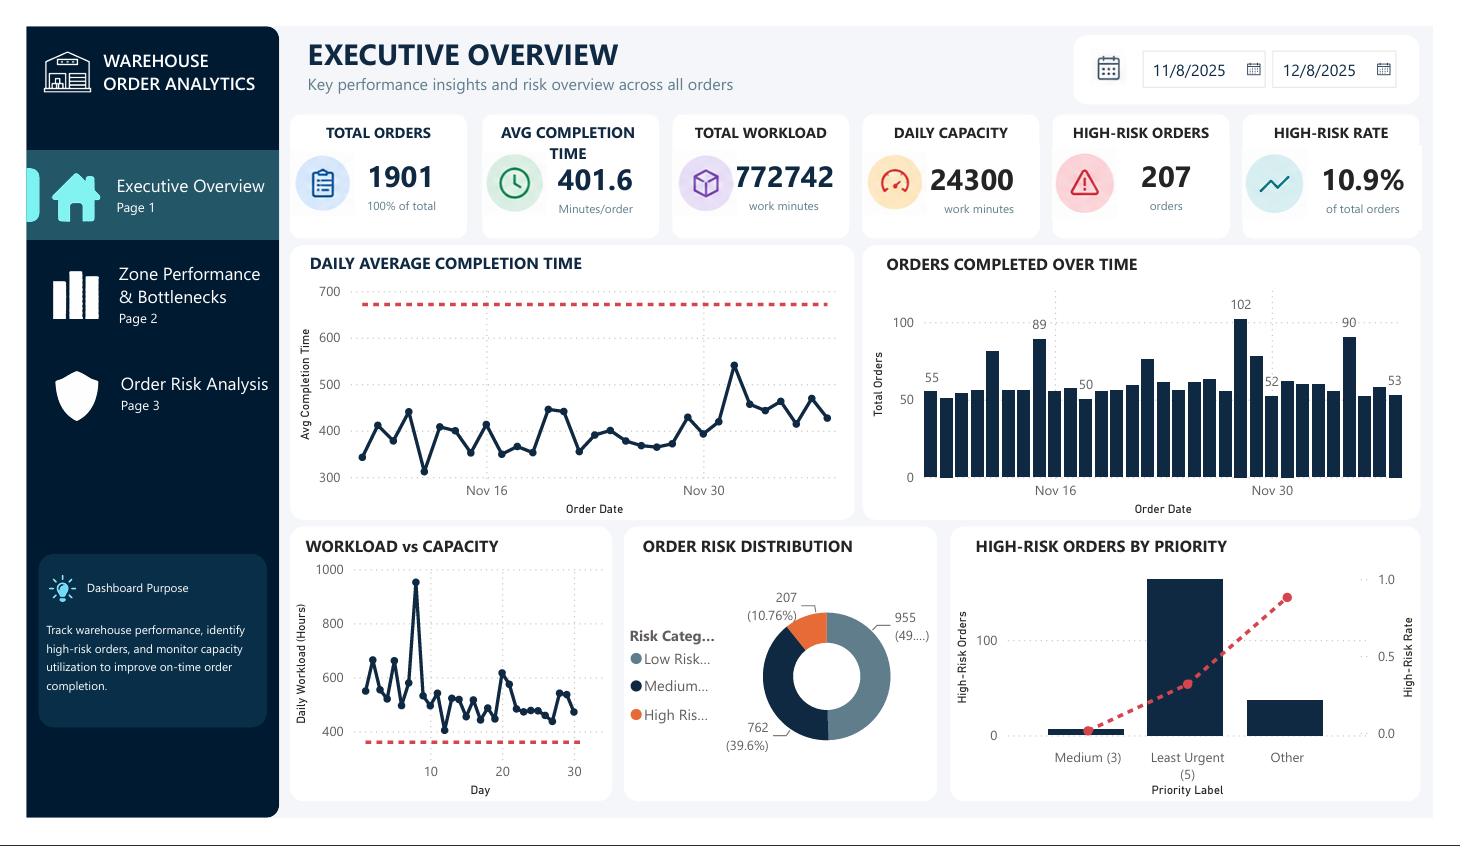

What the dashboard file says about the page in this screenshot:
{"tool":"powerbi","page":{"name":"Executive","canvas":[1280,720],"ordinal":0},"visuals":[{"type":"shape","box":[0,0,230,720],"z":0},{"type":"shape","box":[953.1,7.7,315.4,63.1],"z":0,"group":"g13"},{"type":"textbox","box":[65,15,158.8,55],"z":0,"group":"g6"},{"type":"shape","box":[240,80,161.2,112.5],"z":0,"group":"g7"},{"type":"shape","box":[414.4,80,161.2,112.5],"z":0,"group":"g8"},{"type":"shape","box":[587.6,80,161.2,112.5],"z":0,"group":"g9"},{"type":"shape","box":[760.8,80,161.2,112.5],"z":0,"group":"g10"},{"type":"shape","box":[934,80,161.2,112.5],"z":0,"group":"g11"},{"type":"shape","box":[1107.1,80,161.2,112.5],"z":0,"group":"g12"},{"type":"shape","box":[0,113,230,81],"z":0,"group":"g4"},{"type":"group","id":"g1","title":"Group 3","box":[0,296,230,81],"z":0,"group":"g3"},{"type":"shape","box":[11.5,480,207.5,157.5],"z":0,"group":"g5"},{"type":"textbox","box":[251.2,1.2,436.2,68.8],"z":1000},{"type":"image","box":[10,6.2,55,71.2],"z":1000,"group":"g6"},{"type":"slicer","fields":{"Values":["DateTable.Date"]},"box":[1003,11.6,265.7,50],"z":1000,"group":"g13"},{"type":"cardVisual","fields":{"Data":["dashboard_order_completion.Total Orders"]},"box":[286.2,103.8,115,80],"z":1000,"group":"g7"},{"type":"cardVisual","fields":{"Data":["dashboard_order_completion.Total Workload (M)"]},"box":[630.6,103.8,117.5,80],"z":1000,"group":"g9"},{"type":"cardVisual","fields":{"Data":["dashboard_order_completion.High-Risk Orders"]},"box":[980.2,103.8,115,80],"z":1000,"group":"g11"},{"type":"cardVisual","fields":{"Data":["dashboard_order_completion.Avg Completion Time"]},"box":[439.5,107.5,135.7,77.1],"z":1000,"group":"g8"},{"type":"cardVisual","fields":{"Data":["dashboard_order_completion.Daily Capacity"]},"box":[794,107.5,128.6,77.1],"z":1000,"group":"g10"},{"type":"cardVisual","fields":{"Data":["dashboard_order_completion.High-Risk Rate"]},"box":[1162.6,107.5,107.1,77.1],"z":1000,"group":"g12"},{"type":"textbox","box":[77,129,151,52],"z":1000,"group":"g4"},{"type":"group","id":"g2","title":"Group 2","box":[0,204.5,230,81],"z":1000,"group":"g3"},{"type":"textbox","box":[79,208,145,74],"z":1000,"group":"g2"},{"type":"textbox","box":[81,309,145,56],"z":1000,"group":"g1"},{"type":"textbox","box":[49.8,496.2,169.5,30.5],"z":1000,"group":"g5"},{"type":"image","box":[969.2,17.9,33.1,38.5],"z":2000,"group":"g13"},{"type":"image","box":[240,111.2,58.8,63.8],"z":2000,"group":"g7"},{"type":"image","box":[414.4,111.2,58.8,63.8],"z":2000,"group":"g8"},{"type":"image","box":[587.6,111.2,58.8,63.8],"z":2000,"group":"g9"},{"type":"image","box":[760.8,111.2,58.8,63.8],"z":2000,"group":"g10"},{"type":"image","box":[934,111.2,58.8,63.8],"z":2000,"group":"g11"},{"type":"image","box":[1107.1,111.2,58.8,63.8],"z":2000,"group":"g12"},{"type":"group","id":"g3","title":"Group 4","box":[0,113,230,264],"z":2000},{"type":"group","id":"g4","title":"Group 1","box":[0,113,230,81],"z":2000,"group":"g3"},{"type":"shape","box":[0,129,12.1,49.1],"z":2000,"group":"g4"},{"type":"textbox","box":[13.6,534.3,204.3,82.9],"z":2000,"group":"g5"},{"type":"textbox","box":[409.5,81.8,165.7,57.1],"z":3000,"group":"g8"},{"type":"textbox","box":[240,82.5,161.2,41.2],"z":3000,"group":"g7"},{"type":"textbox","box":[587.6,82.5,161.2,41.2],"z":3000,"group":"g9"},{"type":"textbox","box":[760.8,82.5,161.2,41.2],"z":3000,"group":"g10"},{"type":"textbox","box":[934,82.5,161.2,41.2],"z":3000,"group":"g11"},{"type":"textbox","box":[1107.1,82.5,161.2,41.2],"z":3000,"group":"g12"},{"type":"image","box":[20,133,51,45],"z":3000,"group":"g4"},{"type":"image","box":[15,205,61,60],"z":3000,"group":"g2"},{"type":"image","box":[5,306,82,61],"z":3000,"group":"g1"},{"type":"group","id":"g5","title":"Group 5","box":[11.2,480,207.5,157.5],"z":3000},{"type":"image","box":[11.2,488.6,44.3,45.7],"z":3000,"group":"g5"},{"type":"group","id":"g6","title":"Group 6","box":[10,6.2,213.8,71.2],"z":4000},{"type":"actionButton","box":[0,204.5,230,81],"z":4000,"group":"g2"},{"type":"actionButton","box":[0,296,230,81],"z":4000,"group":"g1"},{"type":"shape","box":[240,198.8,513.8,250],"z":5000},{"type":"shape","box":[761.2,198.8,507.5,250],"z":6000},{"type":"shape","box":[240,455,292.5,250],"z":7000},{"type":"shape","box":[544.4,455,285,250],"z":8000},{"type":"shape","box":[841.2,455,427.5,250],"z":9000},{"type":"group","id":"g7","title":"Group 7","box":[240,80,161.2,112.5],"z":10000},{"type":"group","id":"g8","title":"Group 7","box":[409.5,80,166.1,112.5],"z":11000},{"type":"group","id":"g9","title":"Group 7","box":[587.6,80,161.2,112.5],"z":12000},{"type":"group","id":"g10","title":"Group 7","box":[760.8,80,161.7,112.5],"z":13000},{"type":"group","id":"g11","title":"Group 7","box":[934,80,161.2,112.5],"z":14000},{"type":"group","id":"g12","title":"Group 7","box":[1107.1,80,162.7,112.5],"z":15000},{"type":"lineChart","fields":{"Category":["dashboard_order_completion.order_date"],"Y":["dashboard_order_completion.Avg Completion Time","dashboard_order_completion.Target Completion Time"]},"box":[243.4,226.9,510,222.9],"z":16000},{"type":"textbox","box":[253.4,199.7,321.2,53.8],"z":17000},{"type":"clusteredColumnChart","fields":{"Category":["dashboard_order_completion.order_date"],"Y":["dashboard_order_completion.Total Orders"]},"box":[764.9,226.9,507.1,222.9],"z":18000},{"type":"textbox","box":[777.7,201.1,321.2,53.8],"z":19000},{"type":"lineChart","fields":{"Category":["dashboard_simulation.order_date.Variation.Date Hierarchy.Day"],"Y":["dashboard_simulation.Daily Workload (Hours)","dashboard_simulation.Daily Capacity (Hours)"]},"box":[240,480,292.9,225.7],"z":20000},{"type":"textbox","box":[248.6,457.1,321.4,38.6],"z":21000},{"type":"donutChart","fields":{"Category":["dashboard_order_completion.Risk Category"],"Y":["CountNonNull(dashboard_order_completion.order_id)"]},"box":[544.3,477.1,285.7,228.6],"z":22000},{"type":"textbox","box":[555.7,457.1,264.3,38.6],"z":23000},{"type":"lineClusteredColumnComboChart","fields":{"Y":["dashboard_order_completion.High-Risk Orders"],"Category":["dashboard_order_completion.Priority Label"],"Y2":["dashboard_order_completion.High-Risk Rate"]},"box":[841.4,488.6,427.1,217.1],"z":24000},{"type":"textbox","box":[858.6,457.1,264.3,38.6],"z":25000},{"type":"group","id":"g13","title":"Group 8","box":[953.1,7.7,315.6,63.1],"z":26000}]}

Visuals, with their boxes in screenshot pixels (x1, y1, x2, y2), scaled from the page's 1280x720 canvas onto the 1460x846 screenshot:
shape: detection(0, 0, 262, 845)
shape: detection(1087, 9, 1447, 83)
textbox: detection(74, 18, 255, 82)
shape: detection(274, 94, 458, 226)
shape: detection(473, 94, 657, 226)
shape: detection(670, 94, 854, 226)
shape: detection(868, 94, 1052, 226)
shape: detection(1065, 94, 1249, 226)
shape: detection(1263, 94, 1447, 226)
shape: detection(0, 133, 262, 228)
"Group 3" group: detection(0, 348, 262, 443)
shape: detection(13, 564, 250, 749)
textbox: detection(287, 1, 784, 82)
image: detection(11, 7, 74, 91)
slicer - DateTable.Date: detection(1144, 14, 1447, 72)
cardVisual - dashboard_order_completion.Total Orders: detection(326, 122, 458, 216)
cardVisual - dashboard_order_completion.Total Workload (M): detection(719, 122, 853, 216)
cardVisual - dashboard_order_completion.High-Risk Orders: detection(1118, 122, 1249, 216)
cardVisual - dashboard_order_completion.Avg Completion Time: detection(501, 126, 656, 217)
cardVisual - dashboard_order_completion.Daily Capacity: detection(906, 126, 1052, 217)
cardVisual - dashboard_order_completion.High-Risk Rate: detection(1326, 126, 1448, 217)
textbox: detection(88, 152, 260, 213)
"Group 2" group: detection(0, 240, 262, 335)
textbox: detection(90, 244, 256, 331)
textbox: detection(92, 363, 258, 429)
textbox: detection(57, 583, 250, 619)
image: detection(1105, 21, 1143, 66)
image: detection(274, 131, 341, 206)
image: detection(473, 131, 540, 206)
image: detection(670, 131, 737, 206)
image: detection(868, 131, 935, 206)
image: detection(1065, 131, 1132, 206)
image: detection(1263, 131, 1330, 206)
"Group 4" group: detection(0, 133, 262, 443)
"Group 1" group: detection(0, 133, 262, 228)
shape: detection(0, 152, 14, 209)
textbox: detection(16, 628, 249, 725)
textbox: detection(467, 96, 656, 163)
textbox: detection(274, 97, 458, 145)
textbox: detection(670, 97, 854, 145)
textbox: detection(868, 97, 1052, 145)
textbox: detection(1065, 97, 1249, 145)
textbox: detection(1263, 97, 1447, 145)
image: detection(23, 156, 81, 209)
image: detection(17, 241, 87, 311)
image: detection(6, 360, 99, 431)
"Group 5" group: detection(13, 564, 249, 749)
image: detection(13, 574, 63, 628)
"Group 6" group: detection(11, 7, 255, 91)
actionButton: detection(0, 240, 262, 335)
actionButton: detection(0, 348, 262, 443)
shape: detection(274, 234, 860, 527)
shape: detection(868, 234, 1447, 527)
shape: detection(274, 535, 607, 828)
shape: detection(621, 535, 946, 828)
shape: detection(959, 535, 1447, 828)
"Group 7" group: detection(274, 94, 458, 226)
"Group 7" group: detection(467, 94, 657, 226)
"Group 7" group: detection(670, 94, 854, 226)
"Group 7" group: detection(868, 94, 1052, 226)
"Group 7" group: detection(1065, 94, 1249, 226)
"Group 7" group: detection(1263, 94, 1448, 226)
lineChart - dashboard_order_completion.order_date x dashboard_order_completion.Avg Completion Time: detection(278, 267, 859, 529)
textbox: detection(289, 235, 655, 298)
clusteredColumnChart - dashboard_order_completion.order_date x dashboard_order_completion.Total Orders: detection(872, 267, 1451, 529)
textbox: detection(887, 236, 1253, 300)
lineChart - dashboard_simulation.order_date.Variation.Date Hierarchy.Day x dashboard_simulation.Daily Workload (Hours): detection(274, 564, 608, 829)
textbox: detection(284, 537, 650, 582)
donutChart - dashboard_order_completion.Risk Category x CountNonNull(dashboard_order_completion.order_id): detection(621, 561, 947, 829)
textbox: detection(634, 537, 935, 582)
lineClusteredColumnComboChart - dashboard_order_completion.High-Risk Orders x dashboard_order_completion.Priority Label: detection(960, 574, 1447, 829)
textbox: detection(979, 537, 1281, 582)
"Group 8" group: detection(1087, 9, 1447, 83)
